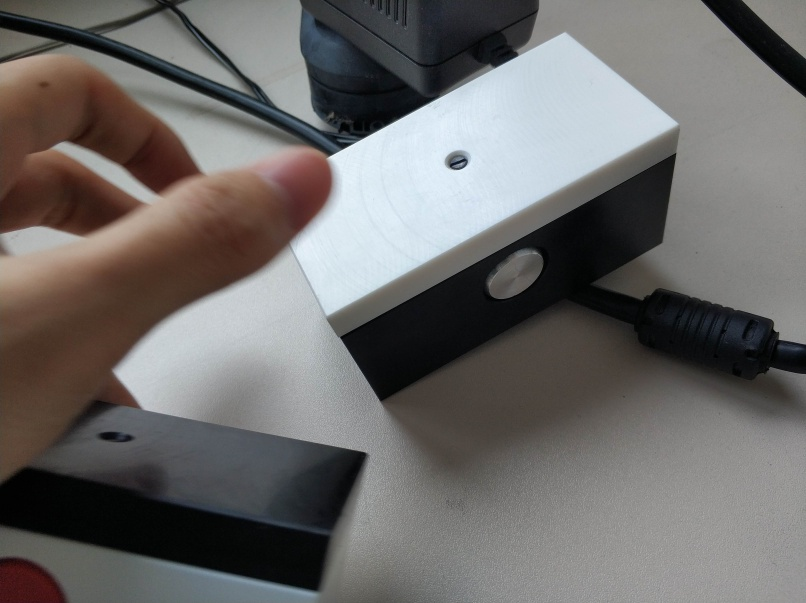black+white+red: (1, 398, 375, 603)
white+black+silver: (288, 29, 679, 407)
